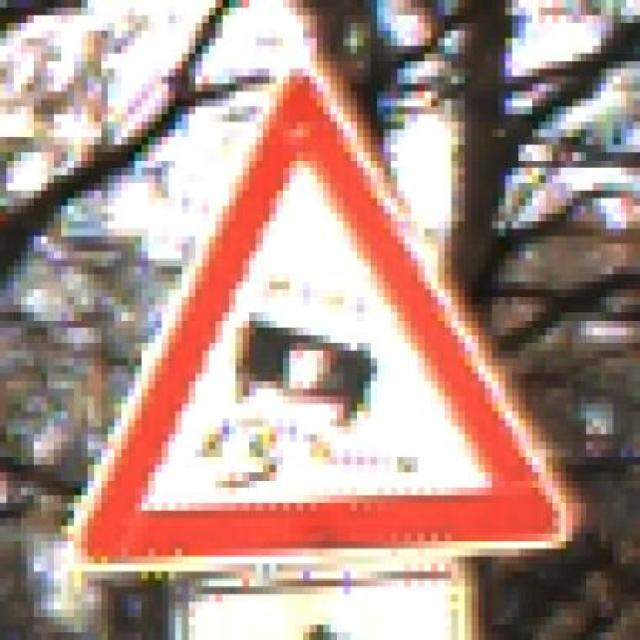Slippery Road Ahead: (47, 46, 579, 580)
